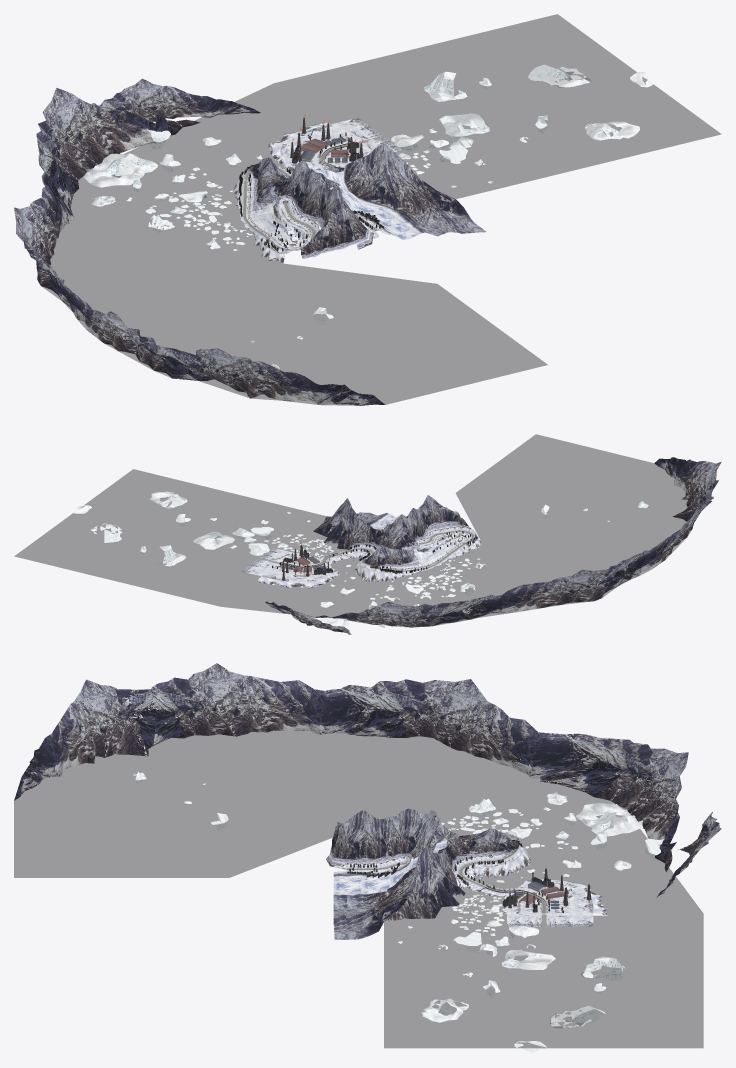
Rendered from stage-alas.glb.
3 views of the same model, one above another, from view 1: azimuth 30°, elevation 25°; view 2: azimuth 150°, elevation 25°; view 3: azimuth 270°, elevation 25° (orthographic). The views are drawn at different scales.
Visible parts, largest first — view 1: part 6 chunk 2,-1, part 6 chunk -5,4, part 1 chunk -5,-1, part 6 chunk -6,-4, part 1 chunk 0,-2, part 1 chunk -1,-9, part 1 chunk 0,-3, part 1 chunk 1,-1, part 1 chunk -2,-2, part 1 chunk 1,-2, part 1 chunk -1,-2, part 2 chunk -4,-7 (+11 smaller); view 2: part 6 chunk 2,-1, part 6 chunk -5,4, part 1 chunk -5,-1, part 6 chunk -6,-4, part 1 chunk 0,-3, part 1 chunk -1,-4, part 6 chunk -2,-6, part 1 chunk -1,-3, part 1 chunk -2,-2, part 1 chunk -1,-2, part 1 chunk -1,-9, part 2 chunk -3,-4 (+12 smaller); view 3: part 6 chunk 2,-1, part 1 chunk -5,-1, part 6 chunk -5,4, part 6 chunk -6,-4, part 1 chunk 0,-3, part 1 chunk -1,-2, part 1 chunk 1,-2, part 1 chunk -1,-4, part 1 chunk 1,-1, part 6 chunk -2,-6, part 1 chunk -1,-1, part 1 chunk 0,-2 (+11 smaller).
Boxes of the visible parts, x1=… form: part 6 chunk 2,-1: x1=123, y1=14, x2=720, y2=404; part 6 chunk -5,4: x1=77, y1=264, x2=436, y2=405; part 1 chunk -5,-1: x1=14, y1=88, x2=384, y2=405; part 6 chunk -6,-4: x1=42, y1=160, x2=282, y2=310; part 1 chunk 0,-2: x1=313, y1=143, x2=424, y2=239; part 1 chunk -1,-9: x1=97, y1=78, x2=260, y2=122; part 1 chunk 0,-3: x1=246, y1=117, x2=401, y2=249; part 1 chunk 1,-1: x1=394, y1=198, x2=486, y2=236; part 1 chunk -2,-2: x1=252, y1=169, x2=325, y2=246; part 1 chunk 1,-2: x1=383, y1=144, x2=455, y2=208; part 1 chunk -1,-2: x1=241, y1=160, x2=391, y2=259; part 2 chunk -4,-7: x1=83, y1=152, x2=157, y2=187; part 6 chunk 2,-1: x1=14, y1=434, x2=652, y2=620; part 6 chunk -5,4: x1=456, y1=463, x2=691, y2=575; part 1 chunk -5,-1: x1=307, y1=457, x2=721, y2=627; part 6 chunk -6,-4: x1=394, y1=541, x2=627, y2=626; part 1 chunk 0,-3: x1=241, y1=499, x2=471, y2=581; part 1 chunk -1,-4: x1=256, y1=526, x2=481, y2=588; part 6 chunk -2,-6: x1=313, y1=558, x2=413, y2=605; part 1 chunk -1,-3: x1=322, y1=514, x2=477, y2=574; part 1 chunk -2,-2: x1=412, y1=508, x2=467, y2=565; part 1 chunk -1,-2: x1=341, y1=509, x2=475, y2=572; part 1 chunk -1,-9: x1=265, y1=601, x2=351, y2=634; part 2 chunk -3,-4: x1=370, y1=558, x2=479, y2=599; part 6 chunk 2,-1: x1=14, y1=801, x2=703, y2=1047; part 1 chunk -5,-1: x1=14, y1=663, x2=688, y2=872; part 6 chunk -5,4: x1=15, y1=731, x2=349, y2=877; part 6 chunk -6,-4: x1=345, y1=735, x2=627, y2=839; part 1 chunk 0,-3: x1=333, y1=839, x2=593, y2=927; part 1 chunk -1,-2: x1=326, y1=808, x2=521, y2=893; part 1 chunk 1,-2: x1=382, y1=847, x2=459, y2=921; part 1 chunk -1,-4: x1=334, y1=828, x2=606, y2=915; part 1 chunk 1,-1: x1=333, y1=891, x2=389, y2=939; part 6 chunk -2,-6: x1=475, y1=831, x2=596, y2=890; part 1 chunk -1,-1: x1=331, y1=810, x2=393, y2=868; part 1 chunk 0,-2: x1=333, y1=835, x2=447, y2=895.
Size of the model in its own units: 5769 by 585 by 5206.
Materials: 130 (127 with a texture image).
